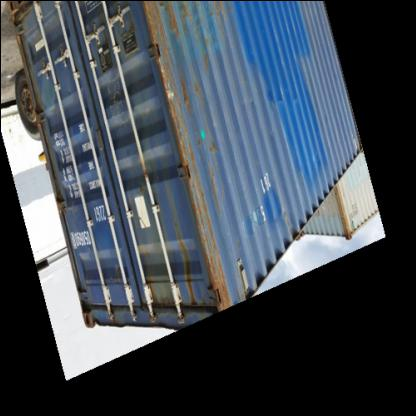Damage: (142, 18, 196, 174), (184, 178, 228, 308), (197, 121, 230, 160)
